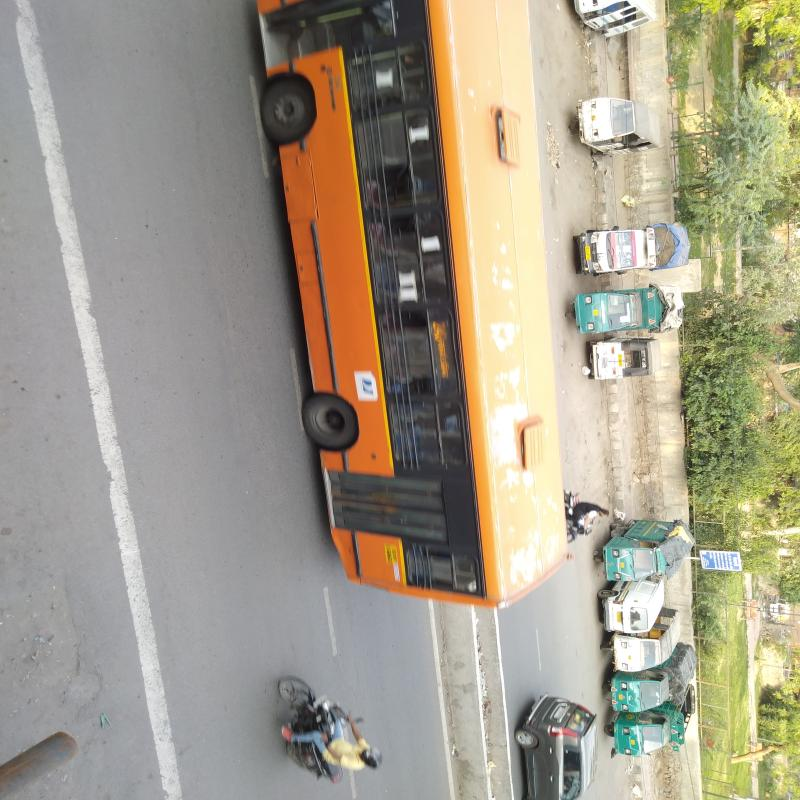bus: (253, 5, 566, 538)
